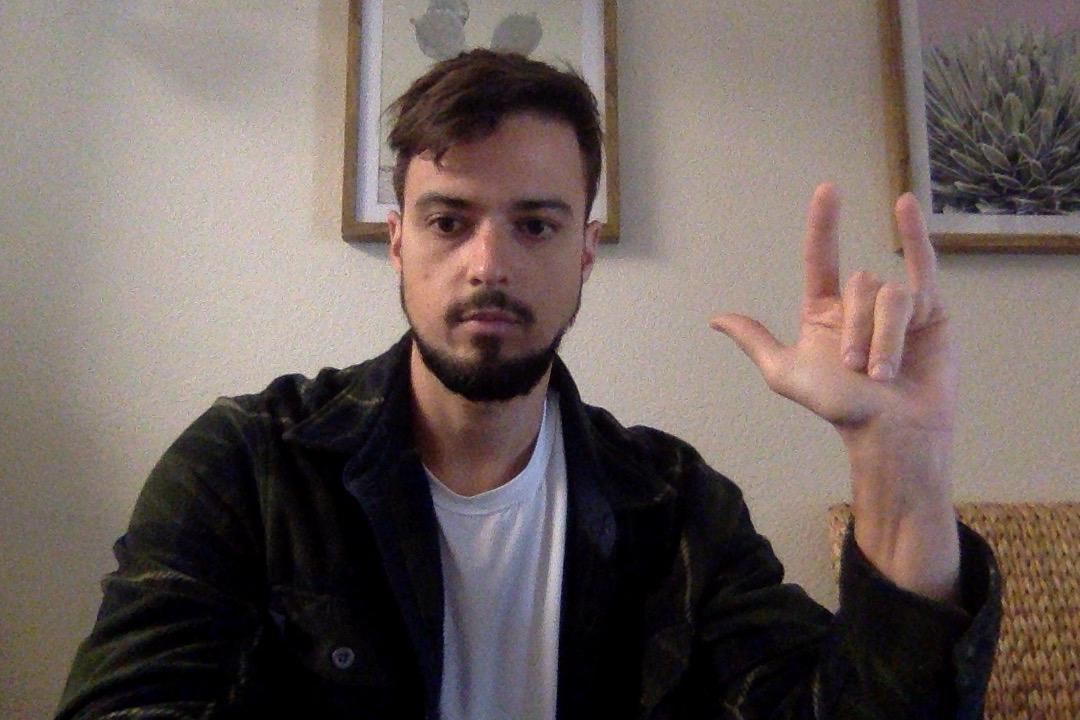Love-You: (706, 177, 961, 464)
